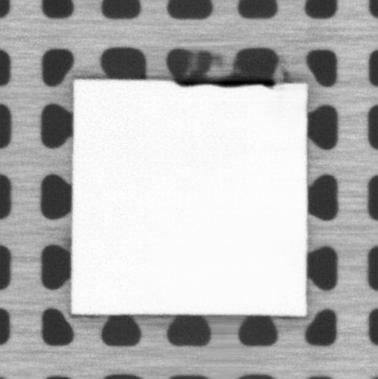DIE_BROKEN: (172, 77, 279, 88)
